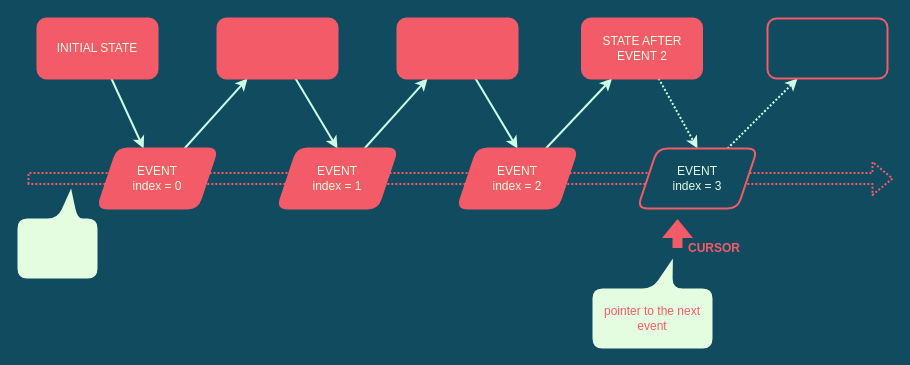
Some shapes in this 910 by 365 pixel diagram are drawn without their labels. The centre of each missing label's shape, as x and y in pixels:
"event timeline" belongs at point (57, 233).
"STATE AFTER EVENT 0" belongs at point (277, 48).
"STATE AFTER EVENT 1" belongs at point (457, 48).
"STATE AFTER EVENT 3" belongs at point (827, 48).
